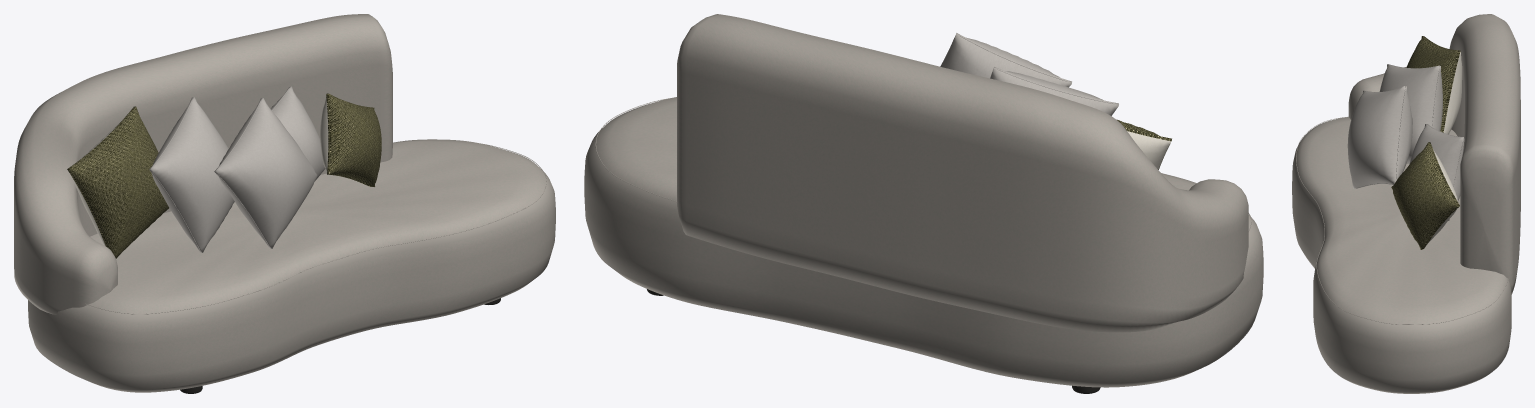
File: sofa.glb
The picture shows the model from 3 angles, left to right: view 1: azimuth 30°, elevation 25°; view 2: azimuth 150°, elevation 25°; view 3: azimuth 270°, elevation 25°; orthographic projection. The views are drawn at different scales.
Visible parts, largest first — view 1: seat_cover, back_cover, cushion_01_cover, cushion_03_cover, cushion_02_cover, cushion_05_cover, cushion_04_cover, seat_panel_seam; view 2: back_cover, seat_cover, cushion_03_cover, cushion_02_cover, cushion_01_cover; view 3: seat_cover, back_cover, cushion_03_cover, cushion_05_cover, cushion_02_cover, cushion_01_cover, cushion_04_cover, seat_panel_seam.
Boxes of the visible parts, x1,y1,x2,y2 form: seat_cover: (28,139,555,392); back_cover: (14,14,392,314); cushion_01_cover: (67,106,168,258); cushion_03_cover: (214,98,318,248); cushion_02_cover: (149,97,234,252); cushion_05_cover: (320,93,381,186); cushion_04_cover: (271,86,325,175); seat_panel_seam: (85,143,546,314); back_cover: (677,14,1248,332); seat_cover: (584,97,1263,387); cushion_03_cover: (941,33,1071,87); cushion_02_cover: (990,67,1118,115); cushion_01_cover: (1117,119,1171,169); seat_cover: (1292,117,1511,393); back_cover: (1348,14,1520,294); cushion_03_cover: (1347,86,1412,188); cushion_05_cover: (1391,142,1459,249); cushion_02_cover: (1379,64,1442,163); cushion_01_cover: (1406,36,1462,134); cushion_04_cover: (1409,124,1464,220); seat_panel_seam: (1296,116,1508,324).
Bounding box in the file's own units: 2.5 × 1.13 × 1.1.
8 materials, 7 textured.
